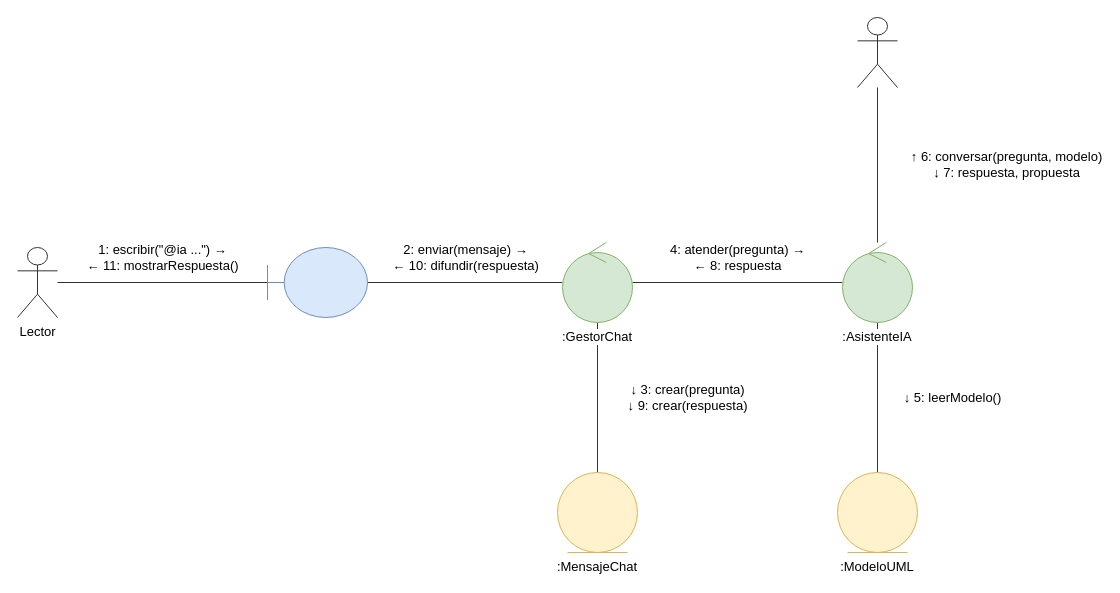
This 1120x593 diagram has some shape labels left out. Here are the shapes that lost their labels. From the top down, the centre of each, then its label:
(x=877, y=52): Servicio de IA
(x=317, y=282): :PanelChat
